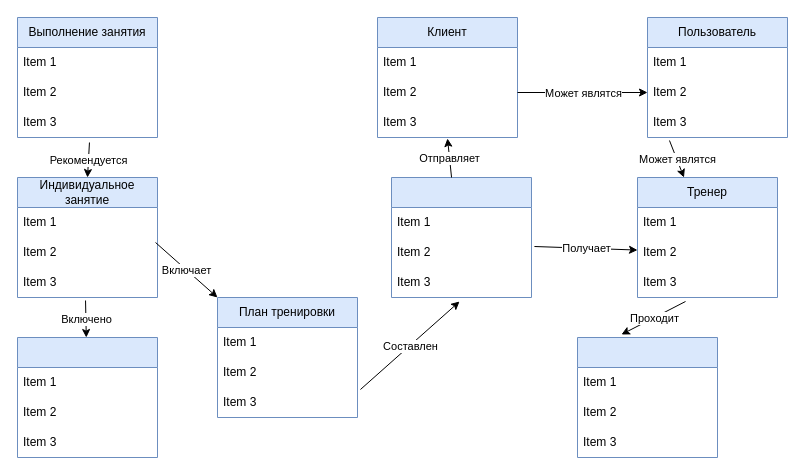
Some shapes in this 805 by 475 pixel diagram are drawn without their labels. The box of each missing label's shape, as (x1, y1, x2, y2) in pixels:
Заявка: (390, 176, 532, 298)
Курс обучения: (576, 336, 718, 458)
Упражнение: (16, 336, 158, 458)
